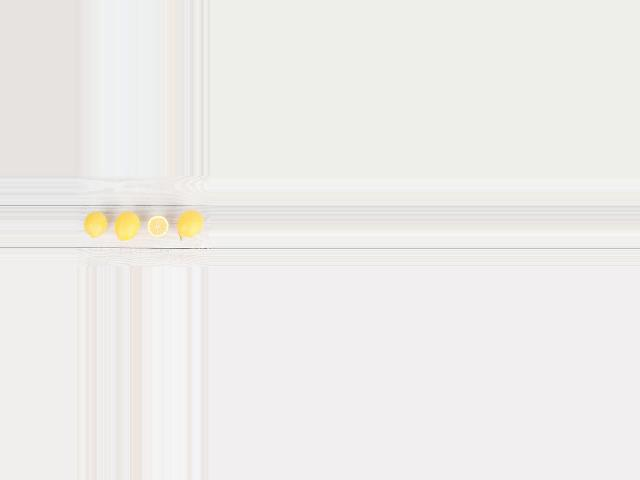lemon: (177, 209, 203, 242)
